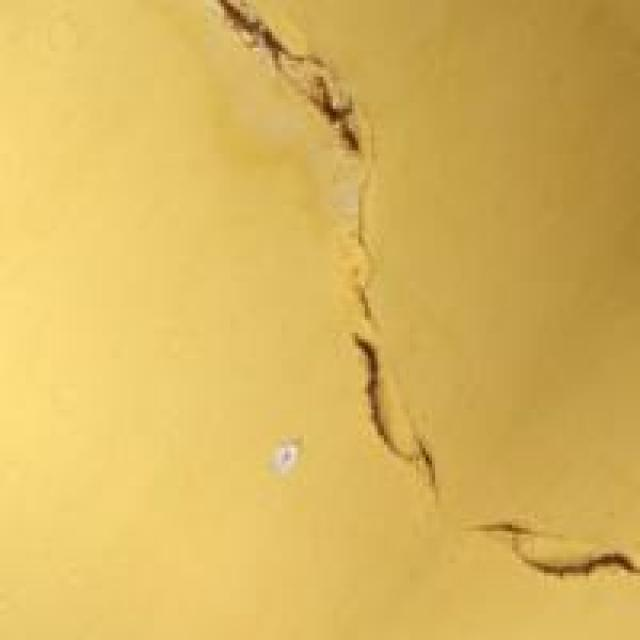crack: (211, 10, 624, 595)
